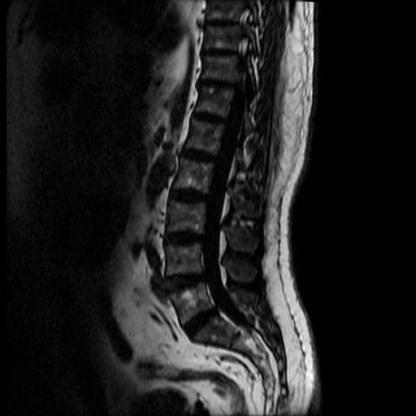Disc Bulgerotation: (181, 309, 227, 333)
Disc Relaxationrotation: (162, 181, 215, 294), (182, 311, 223, 334)
